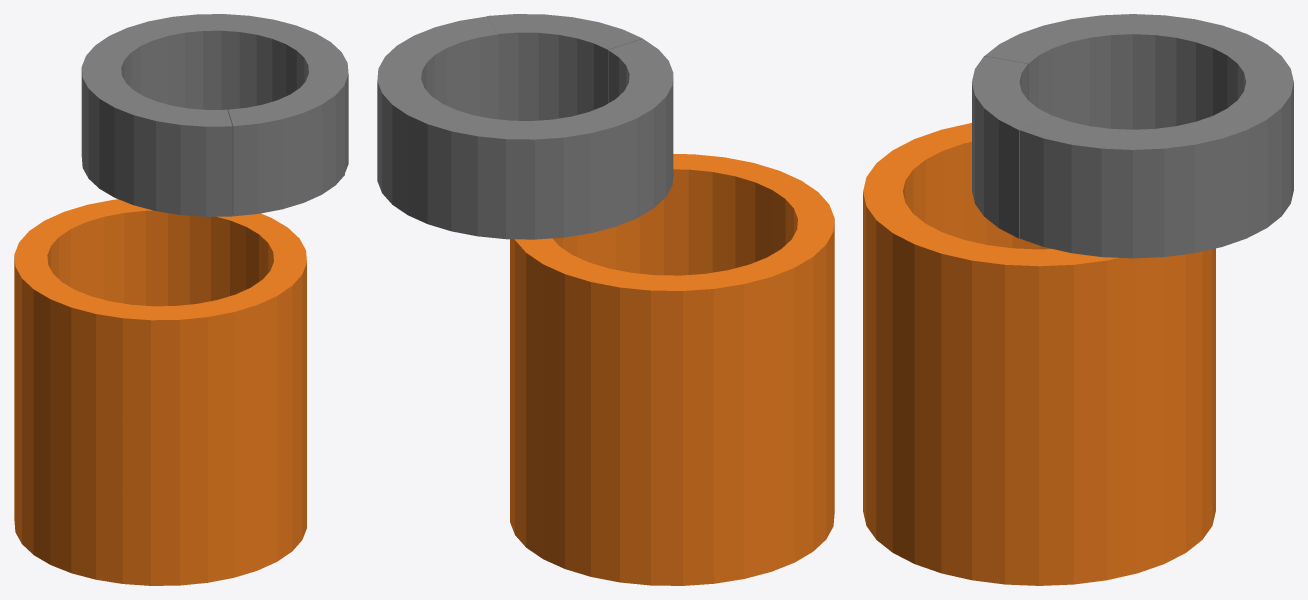
The model's file is Level2.fbx.
3 views of the same model, side by side, from view 1: azimuth 30°, elevation 25°; view 2: azimuth 150°, elevation 25°; view 3: azimuth 270°, elevation 25° (orthographic). The views are drawn at different scales.
Parts seen in each view (by area): view 1: Cylinder, Well, door; view 2: Cylinder, Well, door; view 3: Cylinder, Well, door.
Boxes of the visible parts, box(x1,y1,x2,y2) form: Cylinder: box(14, 199, 306, 585); Well: box(81, 14, 348, 216); door: box(228, 80, 344, 216); Cylinder: box(510, 154, 834, 585); Well: box(377, 16, 673, 239); door: box(487, 14, 642, 120); Cylinder: box(863, 123, 1215, 585); Well: box(984, 14, 1293, 258); door: box(972, 56, 1052, 238).
Size of the model in its own units: 226 by 259 by 209.
